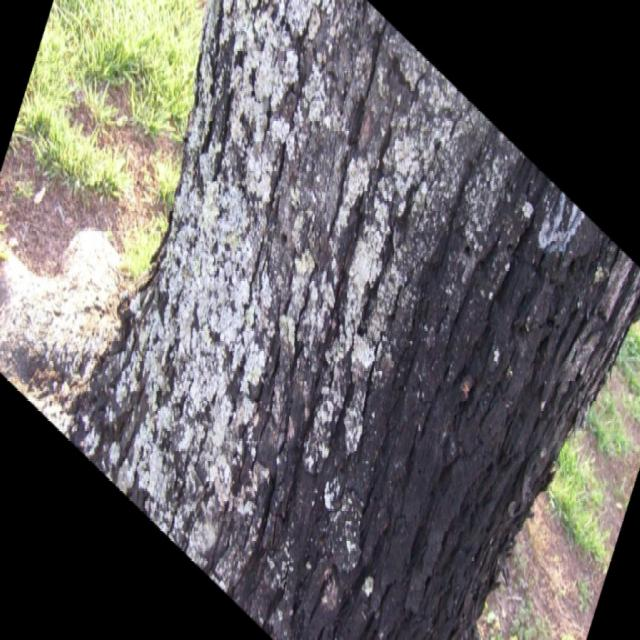Sooty Mold: (2, 1, 638, 638)
